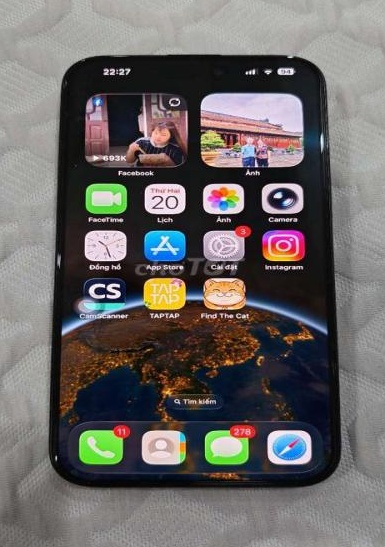scratch: (318, 133, 326, 153), (56, 251, 62, 268), (59, 80, 70, 88), (286, 54, 296, 59), (79, 57, 86, 63)
